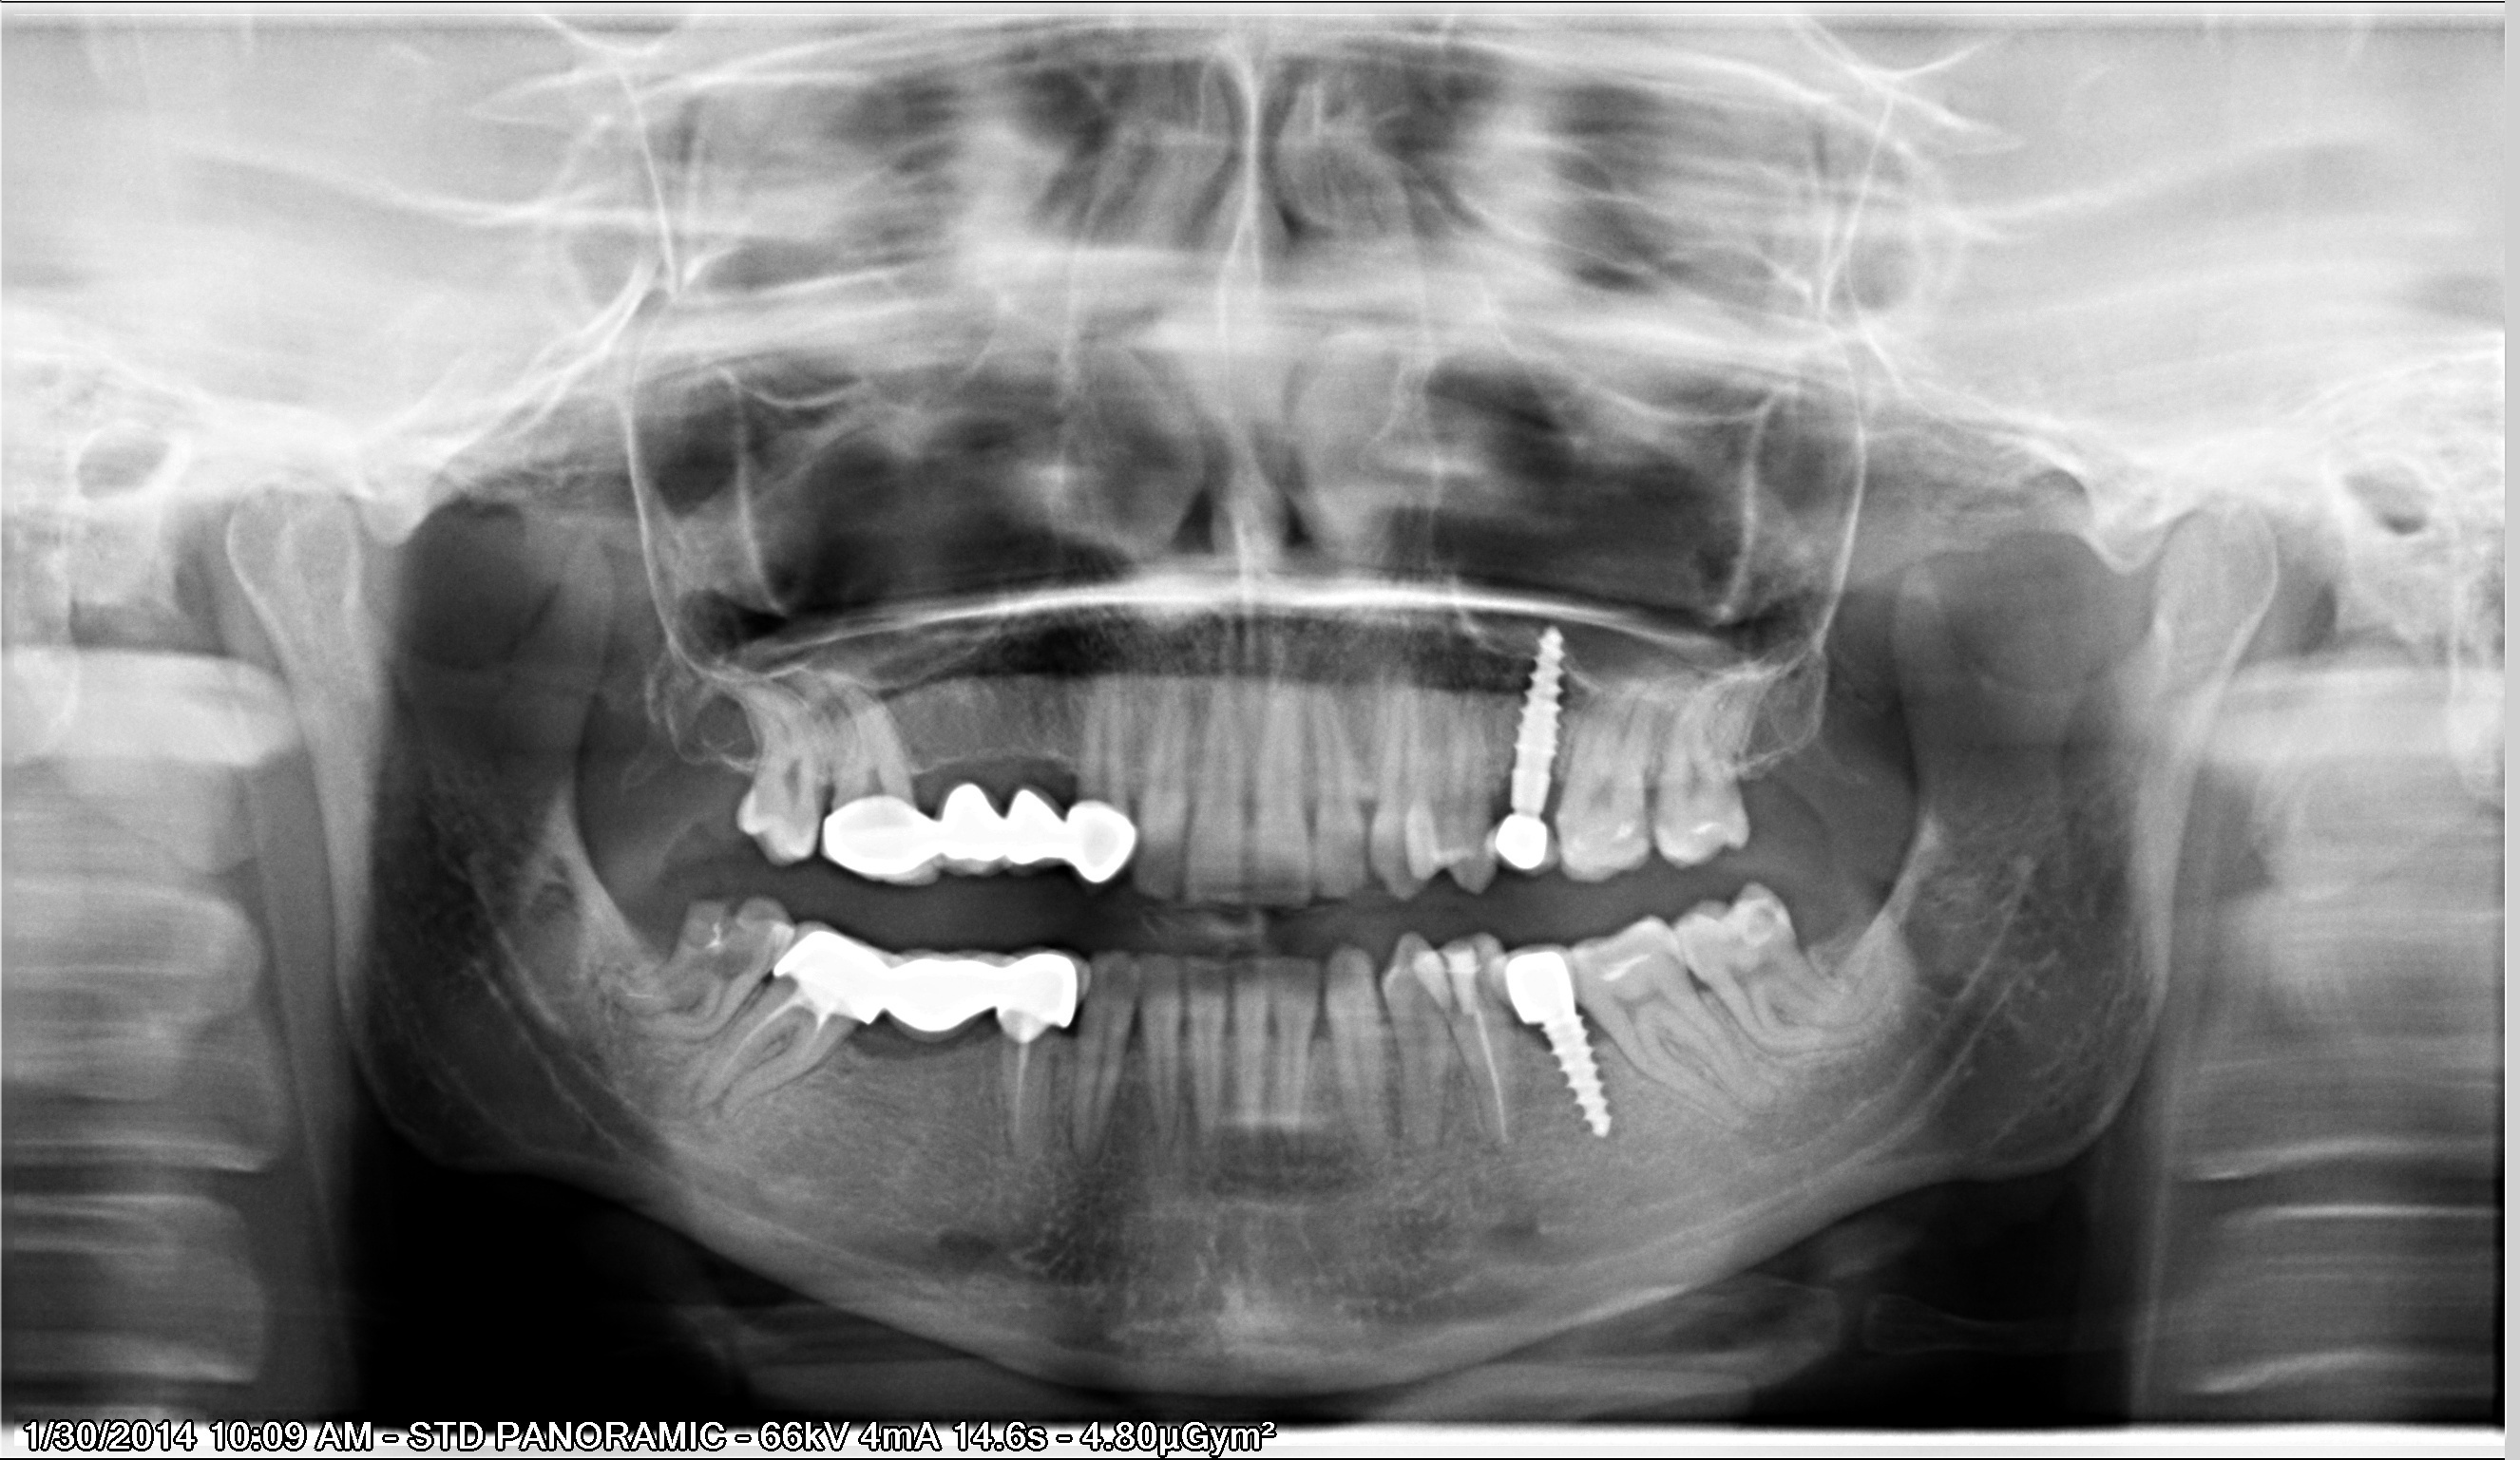API: (1005, 1118, 1038, 1163)
CAR: (1745, 892, 1787, 935)
END: (1472, 1010, 1509, 1147)
PRR: (824, 784, 1135, 881)
